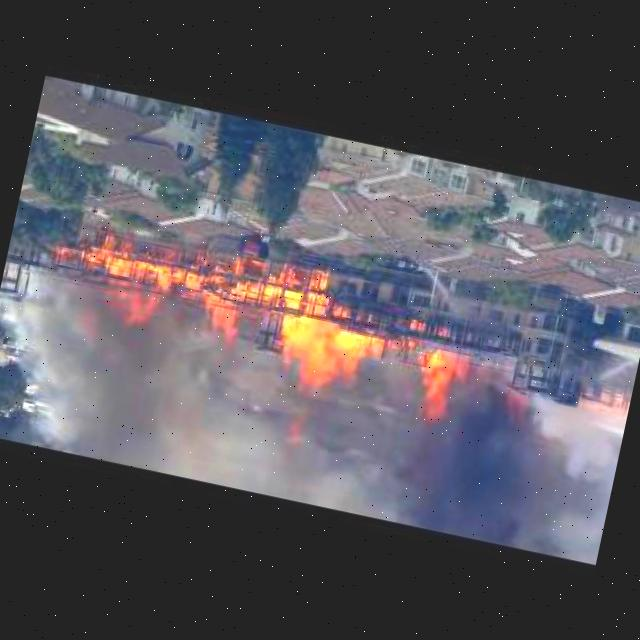fire: (46, 224, 490, 414)
